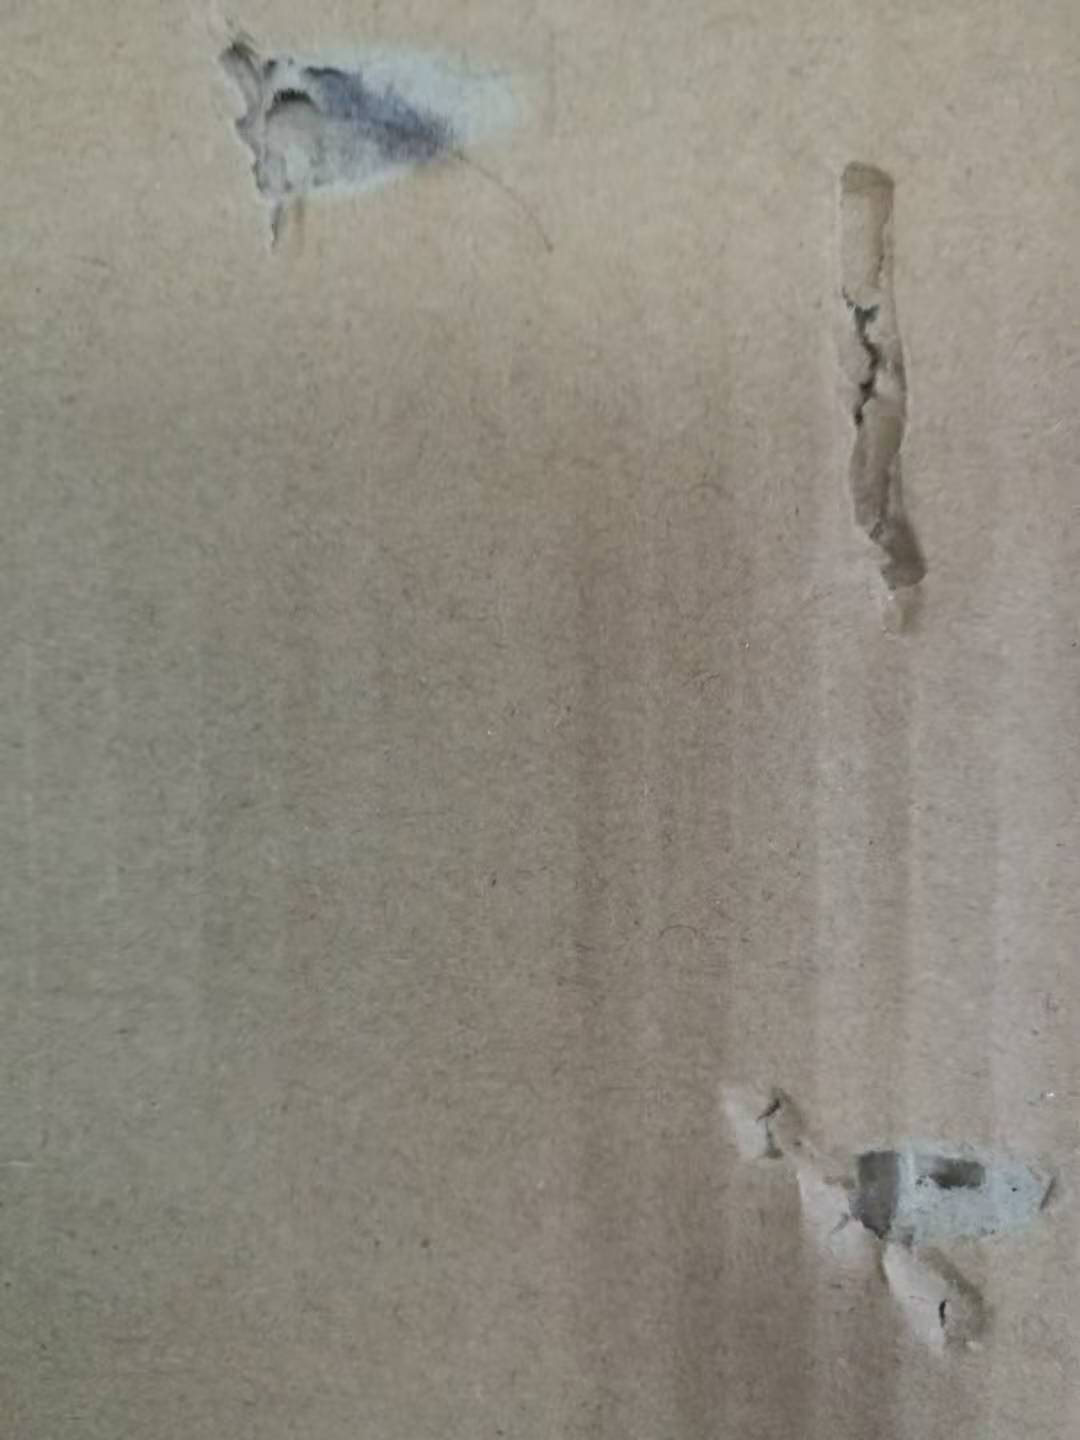defect: (677, 1035, 1080, 1373), (766, 135, 977, 674), (174, 5, 577, 276)
